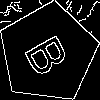B: (23, 28, 79, 79)
